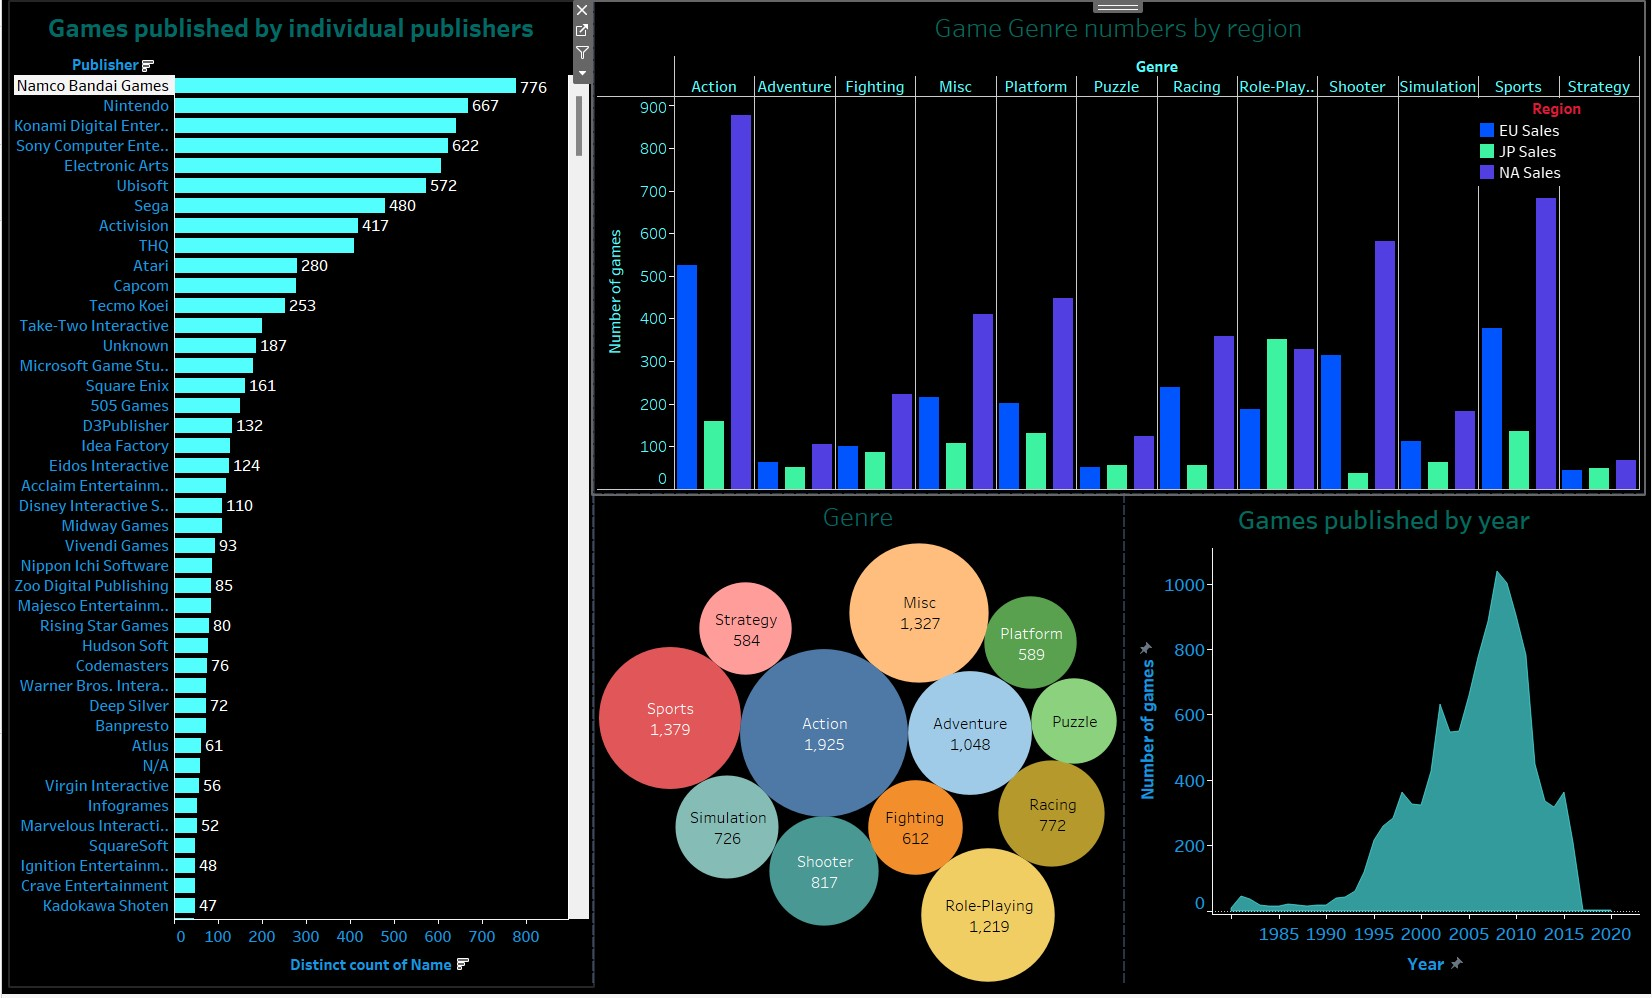

The page's visual inventory and layout, read from the dashboard file:
{"tool":"tableau","page":{"name":"Dashboard 1","canvas":[1650,1000],"ordinal":0},"visuals":[{"type":"title","box":[8,8,1602,50]},{"type":"legend","title":"Sheet 3","param":"[federated.1pi2pup10w4dwb15k1ir21imaagu].[:Measure Names]","box":[1445.2,25,144.6,85]},{"type":"worksheet","title":"Sheet 1","mark":"Automatic","rows":["Publisher"],"cols":["Name"],"box":[8,58,572,934]},{"type":"worksheet","title":"Sheet 3","mark":"Automatic","cols":["Genre"],"box":[580,58,1030,467]},{"type":"worksheet","title":"Sheet 4","mark":"Circle","box":[580,525,520,467]},{"type":"worksheet","title":"Sheet 2","mark":"Area","rows":["Name"],"cols":["Year"],"box":[1100,525,510,467]}]}

Visuals, with their boxes in screenshot pixels (x1, y1, x2, y2), scaled from the page's 1650x1000 canvas onto the 1652x998 screenshot:
title: bbox=(8, 8, 1612, 58)
"Sheet 3" legend: bbox=(1447, 25, 1592, 110)
"Sheet 1" worksheet: bbox=(8, 58, 581, 990)
"Sheet 3" worksheet: bbox=(581, 58, 1612, 524)
"Sheet 4" worksheet (Circle marks): bbox=(581, 524, 1101, 990)
"Sheet 2" worksheet (Area marks): bbox=(1101, 524, 1612, 990)
